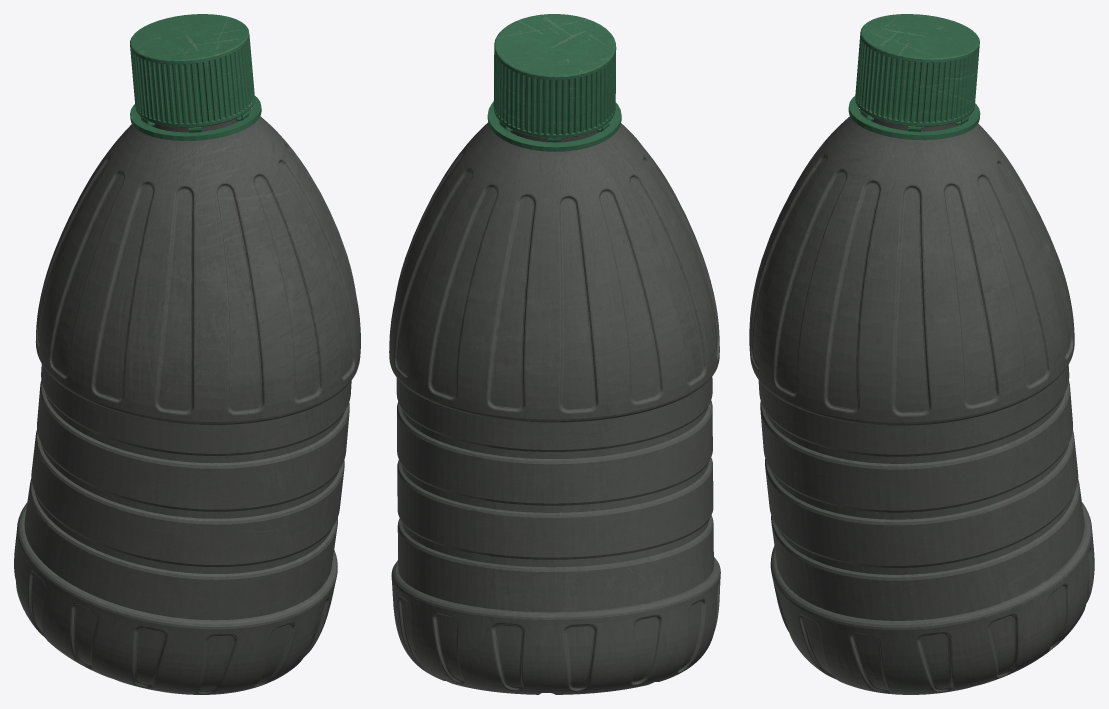
Rendered from bend_low_0.obj.
3 views of the same model, side by side, from view 1: azimuth 30°, elevation 25°; view 2: azimuth 150°, elevation 25°; view 3: azimuth 270°, elevation 25° (orthographic).
Visible parts, largest first — view 1: model; view 2: model; view 3: model.
Part boxes in pixels (x1=…): model: x1=14, y1=14, x2=360, y2=694; model: x1=389, y1=14, x2=720, y2=694; model: x1=749, y1=14, x2=1094, y2=694.
Bounding box in the file's own units: 0.1275 × 0.2604 × 0.1305.
1 material, 1 textured.
